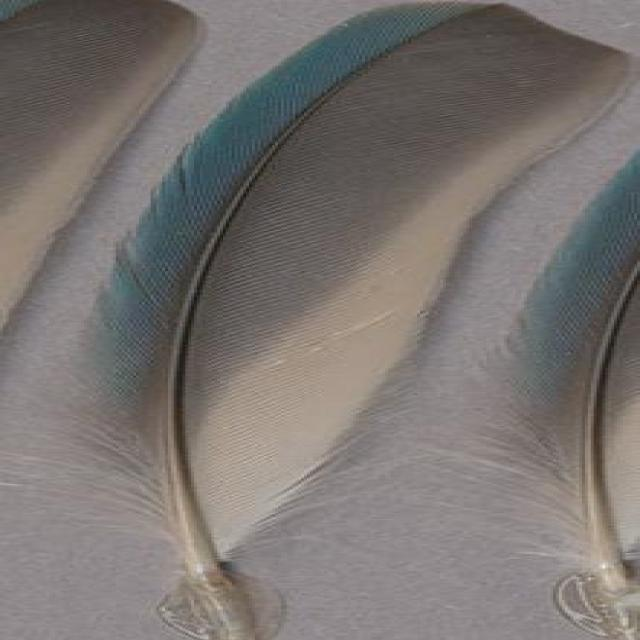feather: (43, 0, 640, 640), (382, 140, 640, 640)
